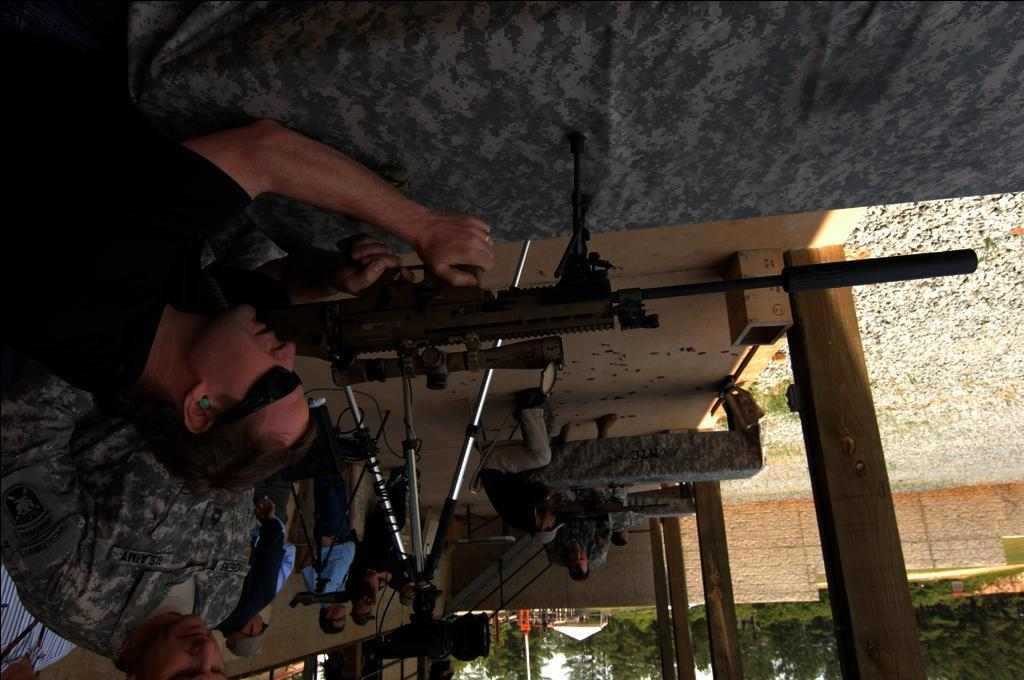gun: (278, 210, 980, 380)
